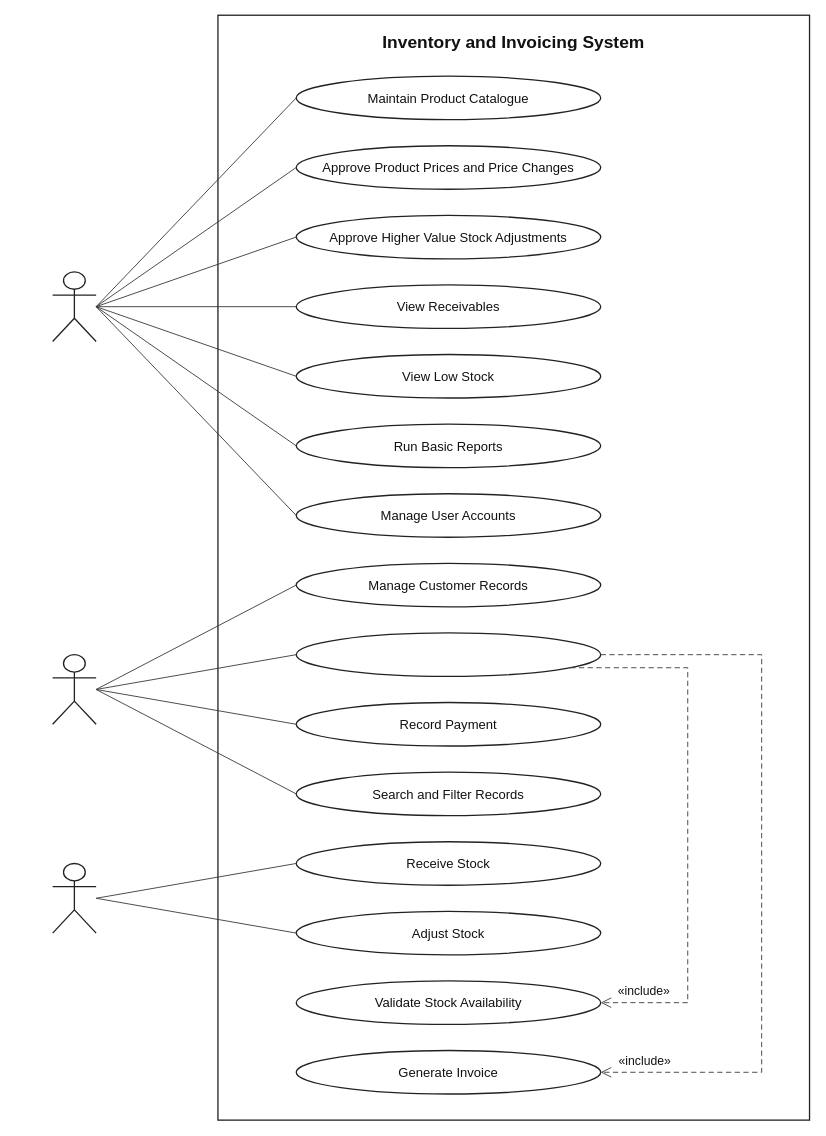
Image size: 826x1136. Some labels were removed from this diagram. The centre of each missing label's shape, as x and y in pixels:
"Create Sale" belongs at (x=448, y=654).
"Inventory Clerk" belongs at (x=74, y=897).
"Owner and Manager" belongs at (x=74, y=306).
"Sales Clerk" belongs at (x=74, y=689).
